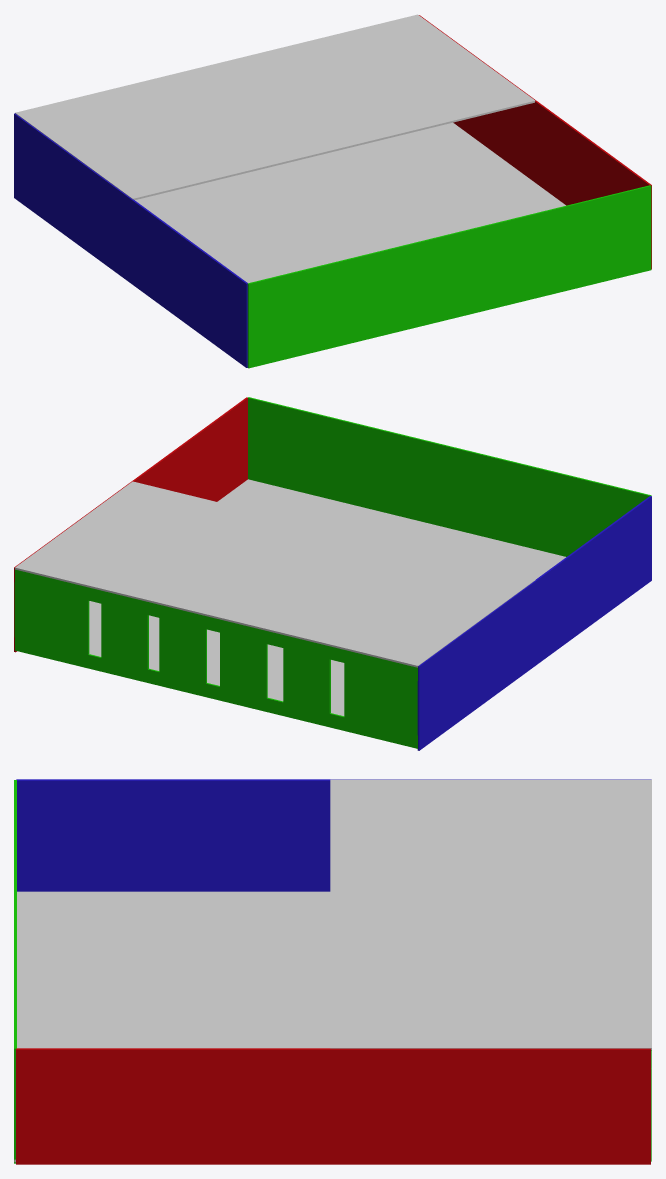
The model's file is ExampleRoom.dae.
The picture shows the model from 3 angles, top to bottom: view 1: azimuth 30°, elevation 25°; view 2: azimuth 150°, elevation 25°; view 3: azimuth 270°, elevation 25°; orthographic projection. The views are drawn at different scales.
Visible parts, largest first — view 1: Roof, Floor, GreenWall, BlueWall, RedWall; view 2: Roof, GreenWall, GreenWindowedWall, BlueWall, Floor, RedWall; view 3: Roof, RedWall, Floor, BlueWall, GreenWall.
Part boxes in pixels (x1,y1,x2,y2): Roof: [15, 14, 535, 199]; Floor: [135, 122, 565, 283]; GreenWall: [247, 185, 651, 368]; BlueWall: [14, 113, 247, 367]; RedWall: [419, 15, 651, 269]; Roof: [15, 481, 535, 667]; GreenWall: [248, 397, 651, 556]; GreenWindowedWall: [14, 569, 417, 748]; BlueWall: [417, 496, 651, 750]; Floor: [89, 479, 565, 715]; RedWall: [14, 397, 247, 652]; Roof: [330, 779, 651, 1050]; RedWall: [16, 1048, 650, 1164]; Floor: [14, 891, 330, 1162]; BlueWall: [16, 779, 651, 891]; GreenWall: [14, 780, 16, 1163].
Size of what is drawn, in the model's own units: 101 by 100 by 20.12.
